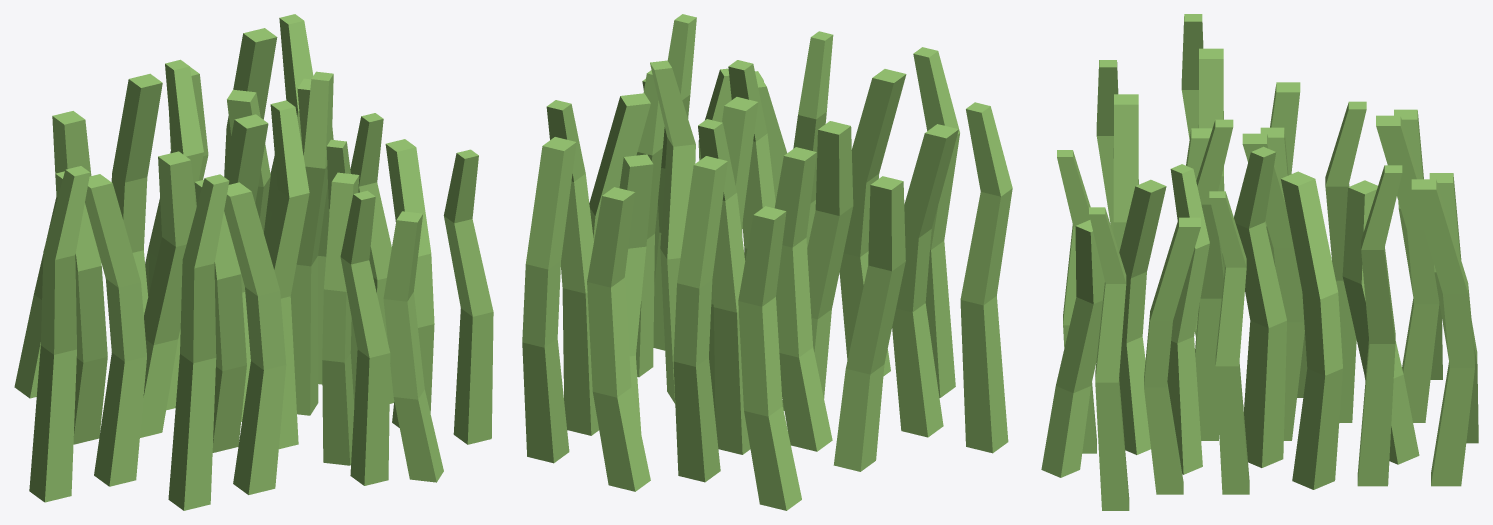
File: Placeholder - Grass.fbx
3 views of the same model, side by side, from view 1: azimuth 30°, elevation 25°; view 2: azimuth 150°, elevation 25°; view 3: azimuth 270°, elevation 25° (orthographic). The views are drawn at different scales.
Parts seen in each view (by area): view 1: Grass; view 2: Grass; view 3: Grass.
Part boxes in pixels (<box>): Grass: <box>14,14,493,510</box>; Grass: <box>522,14,1012,510</box>; Grass: <box>1041,14,1478,510</box>.
Size of the model in its own units: 59.6 by 46.38 by 57.66.
